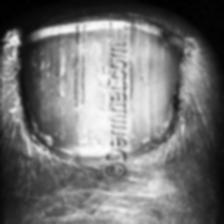Toxin: (2, 19, 102, 175), (125, 20, 192, 162)
